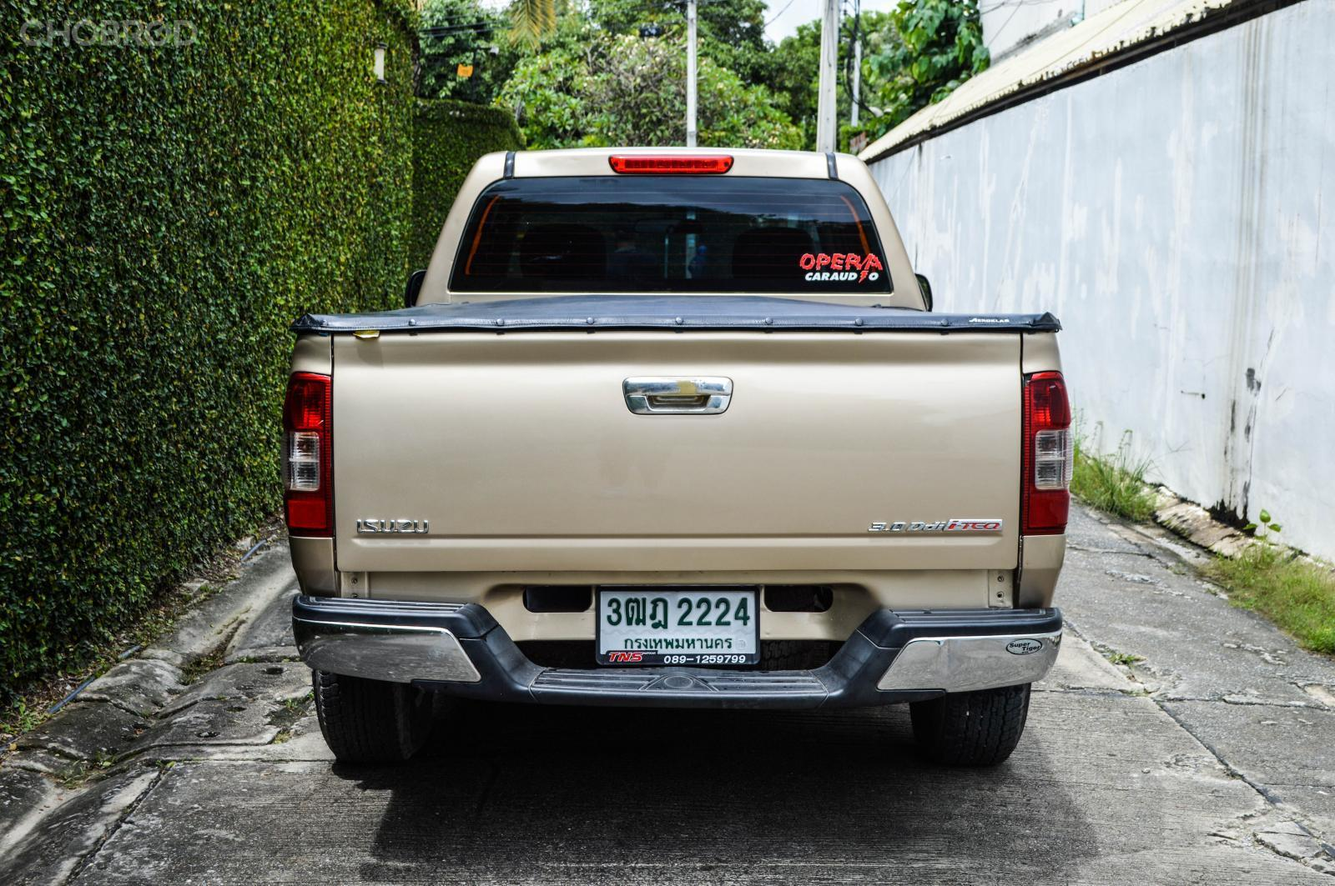license-plate: (597, 585, 759, 670)
